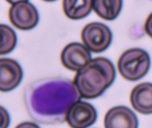L: (24, 76, 80, 122)
